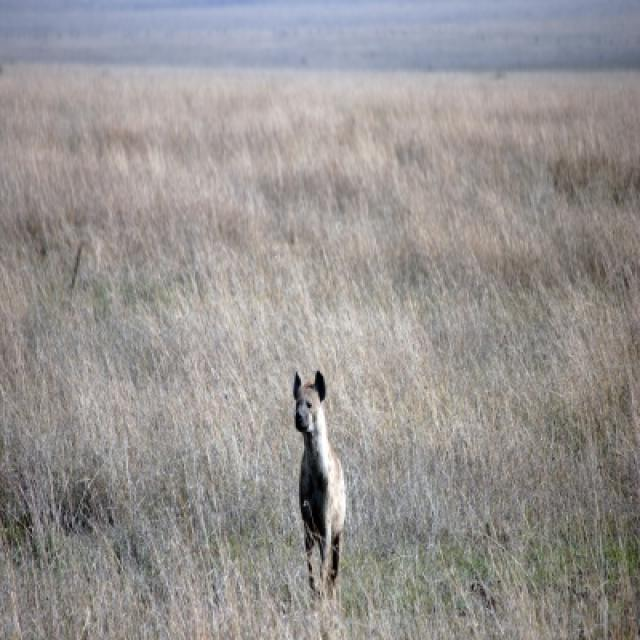hyena: (294, 376, 347, 600)
